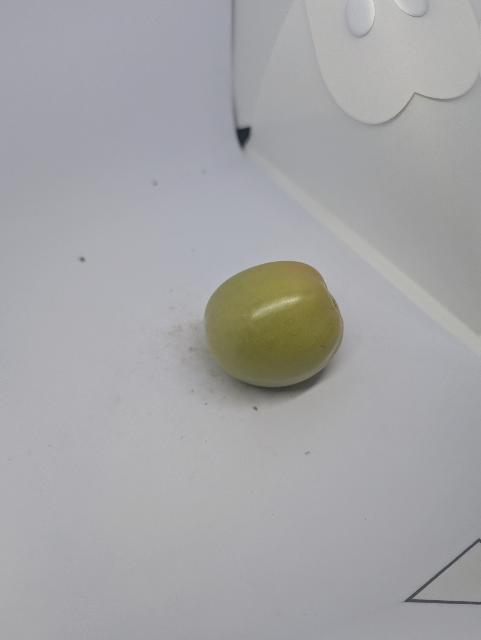breaker: (202, 260, 348, 392)
